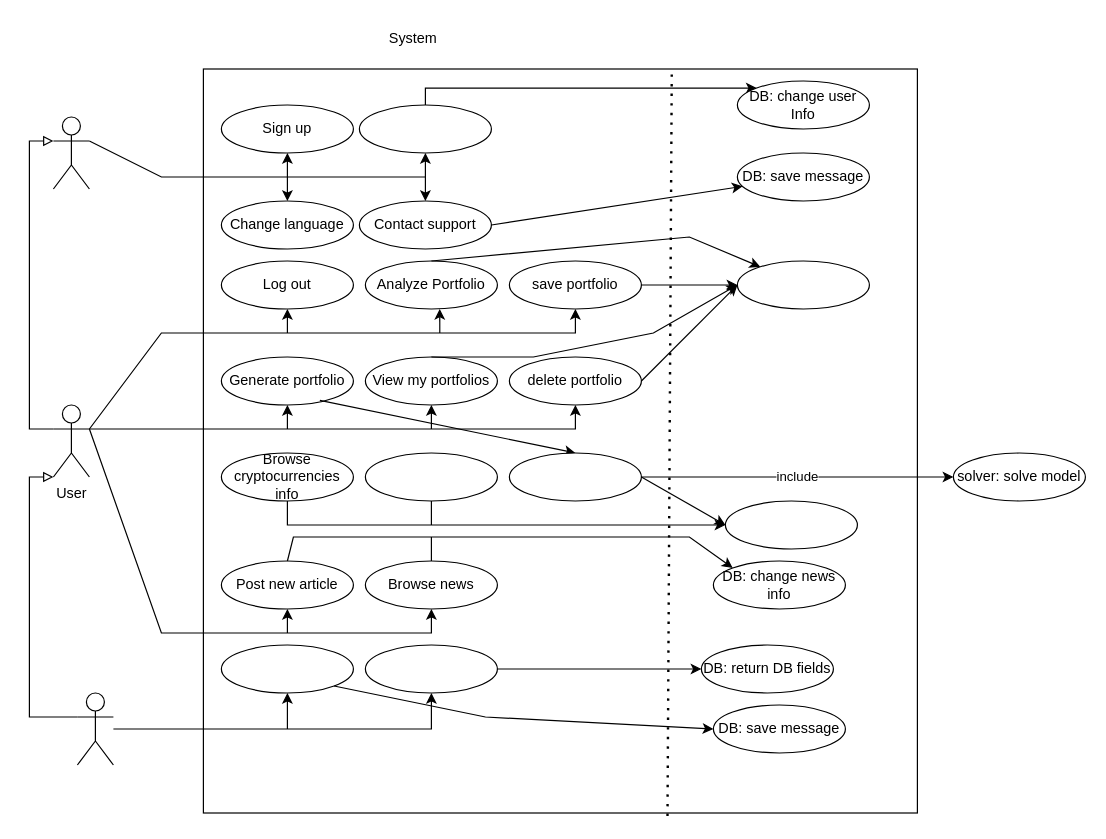
The diagram is 1106 pixels wide and 839 high, and some of its shapes have lost their labels. Here are the shapes that lost their labels. From the top down, the centre of each, then its label:
(424,128): Sign in
(70,152): Guest
(802,284): DB: get portfolio info
(430,476): View detailed crypto info
(574,476): Start optimization module
(790,524): DB: get cryptocurrency info
(286,668): Respond to user
(430,668): get DB fields
(94,728): Admin
